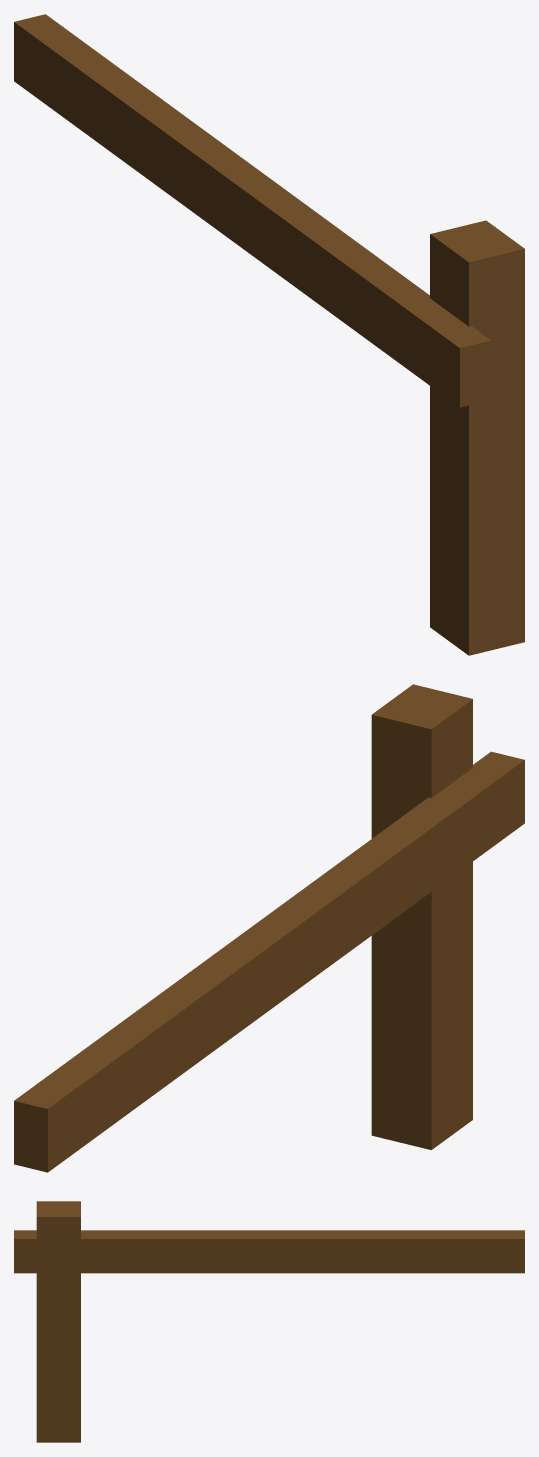
The model's file is Fence 7.fbx.
3 renders of one model, top to bottom at view 1: azimuth 30°, elevation 25°; view 2: azimuth 150°, elevation 25°; view 3: azimuth 270°, elevation 25°, orthographic. The views are drawn at different scales.
Parts seen in each view (by area): view 1: Fence_7; view 2: Fence_7; view 3: Fence_7.
Boxes of the visible parts, <box> form: Fence_7: <box>14,14,524,655</box>; Fence_7: <box>14,684,524,1172</box>; Fence_7: <box>14,1201,524,1442</box>.
Bounding box in the file's own units: 33.03 × 146 × 301.
Materials: 1 (1 with a texture image).
